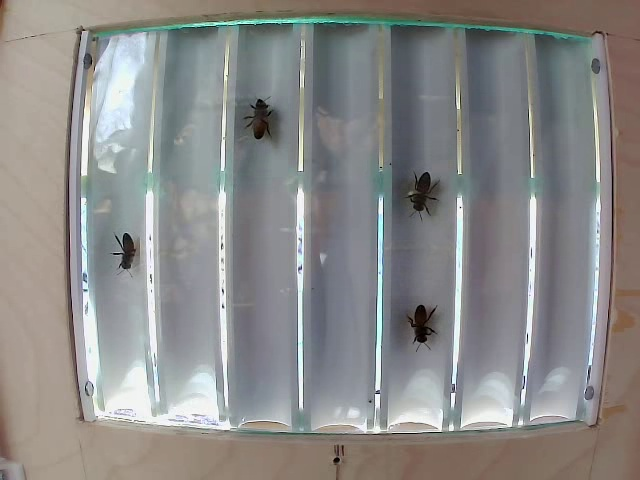bee: (405, 161, 445, 224), (238, 90, 268, 149), (405, 309, 443, 348), (110, 224, 139, 268)
